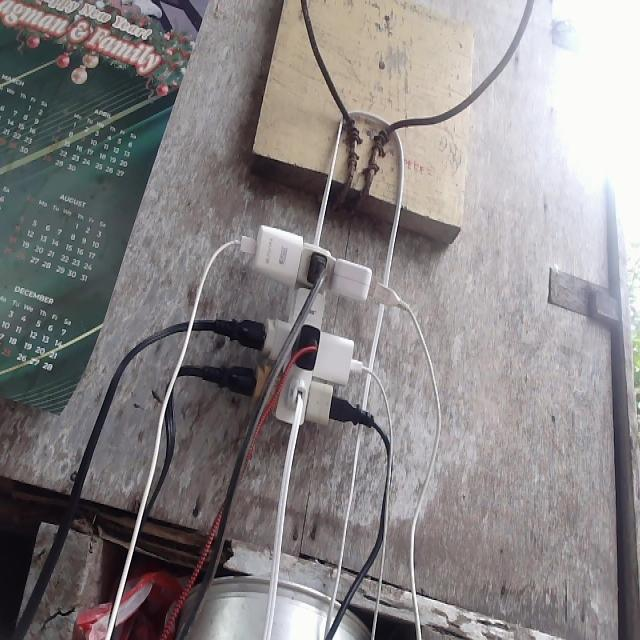-: (205, 225, 406, 435)
